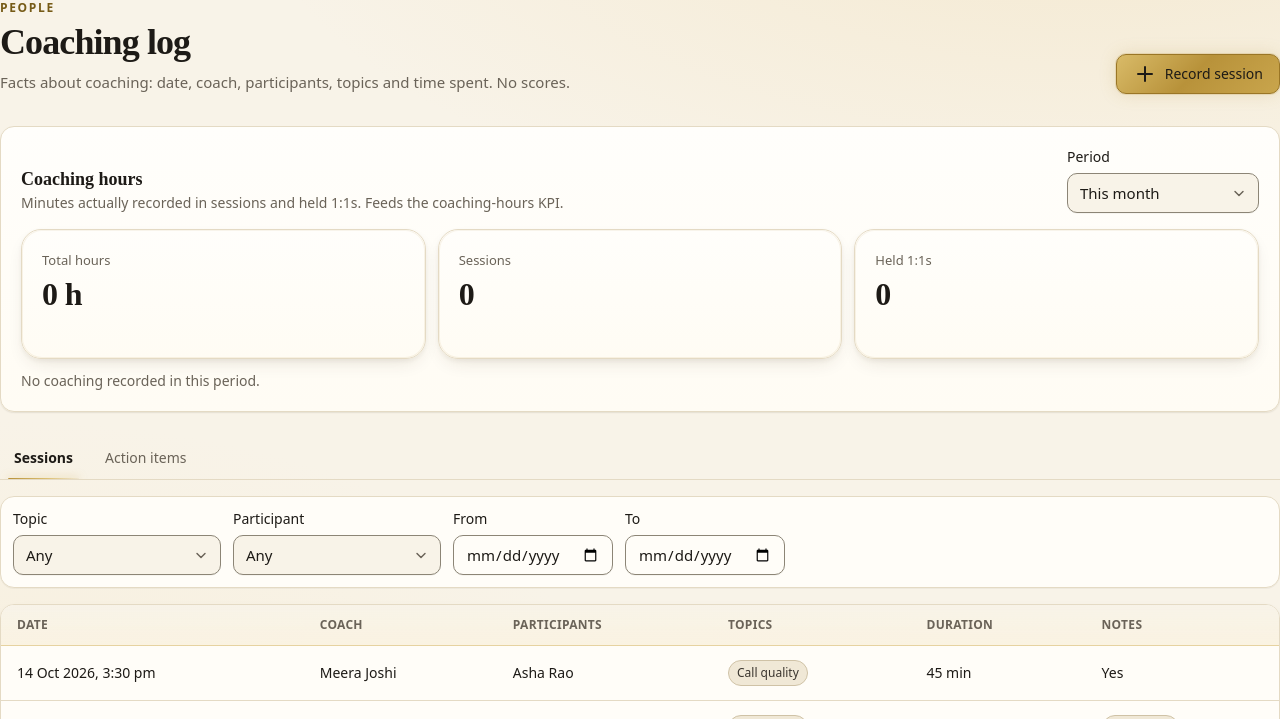
CoachingPage states › loading, then rows with a hidden-notes indicator and a detail view
Click the text "Asha Rao" in the row of "Yes" at (543, 673), box [497,646,712,701]
(page scrolled)
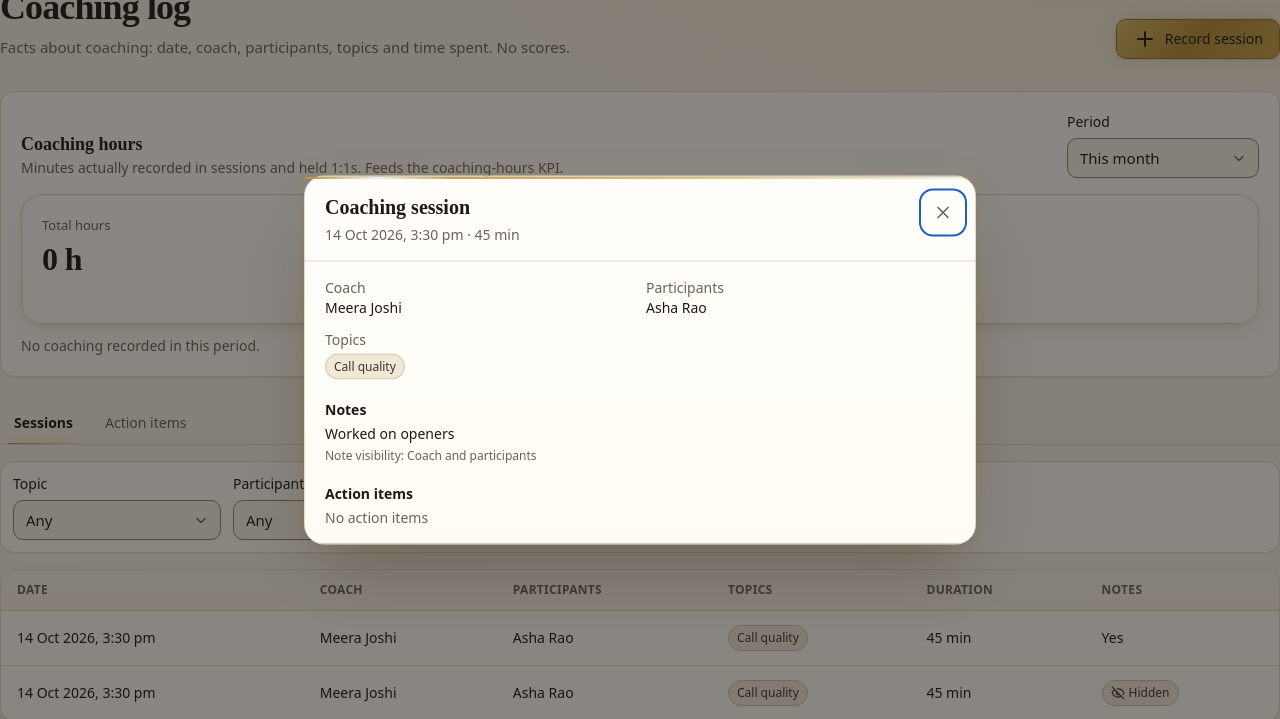
expect the text "Worked on openers" is shown: met, box [325,424,454,442]
